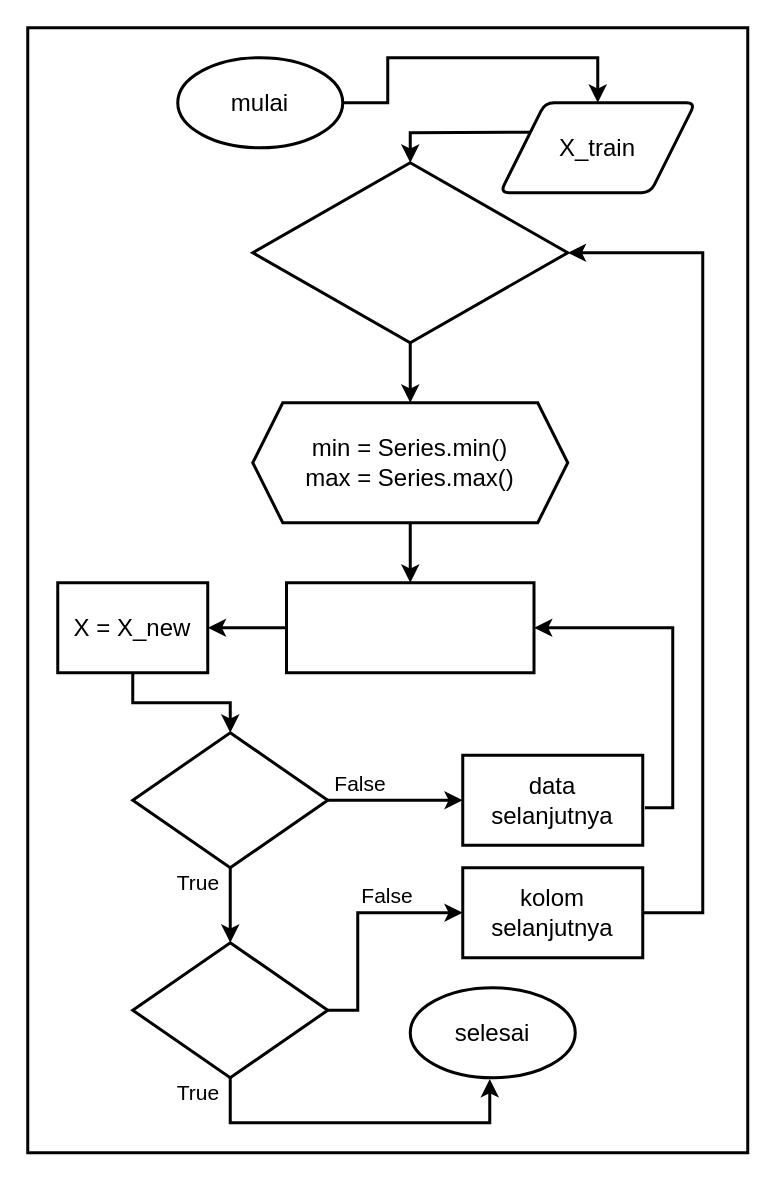
Image size: 774x1179. Some labels were removed from this diagram. Each missing label, with the centre of its shape:
for each X_train.columns: point (409, 252)
if data terakhir: point (229, 799)
if kolom terakhir: point (229, 1009)
X_new = (X - min)/(max-min): point (409, 627)
